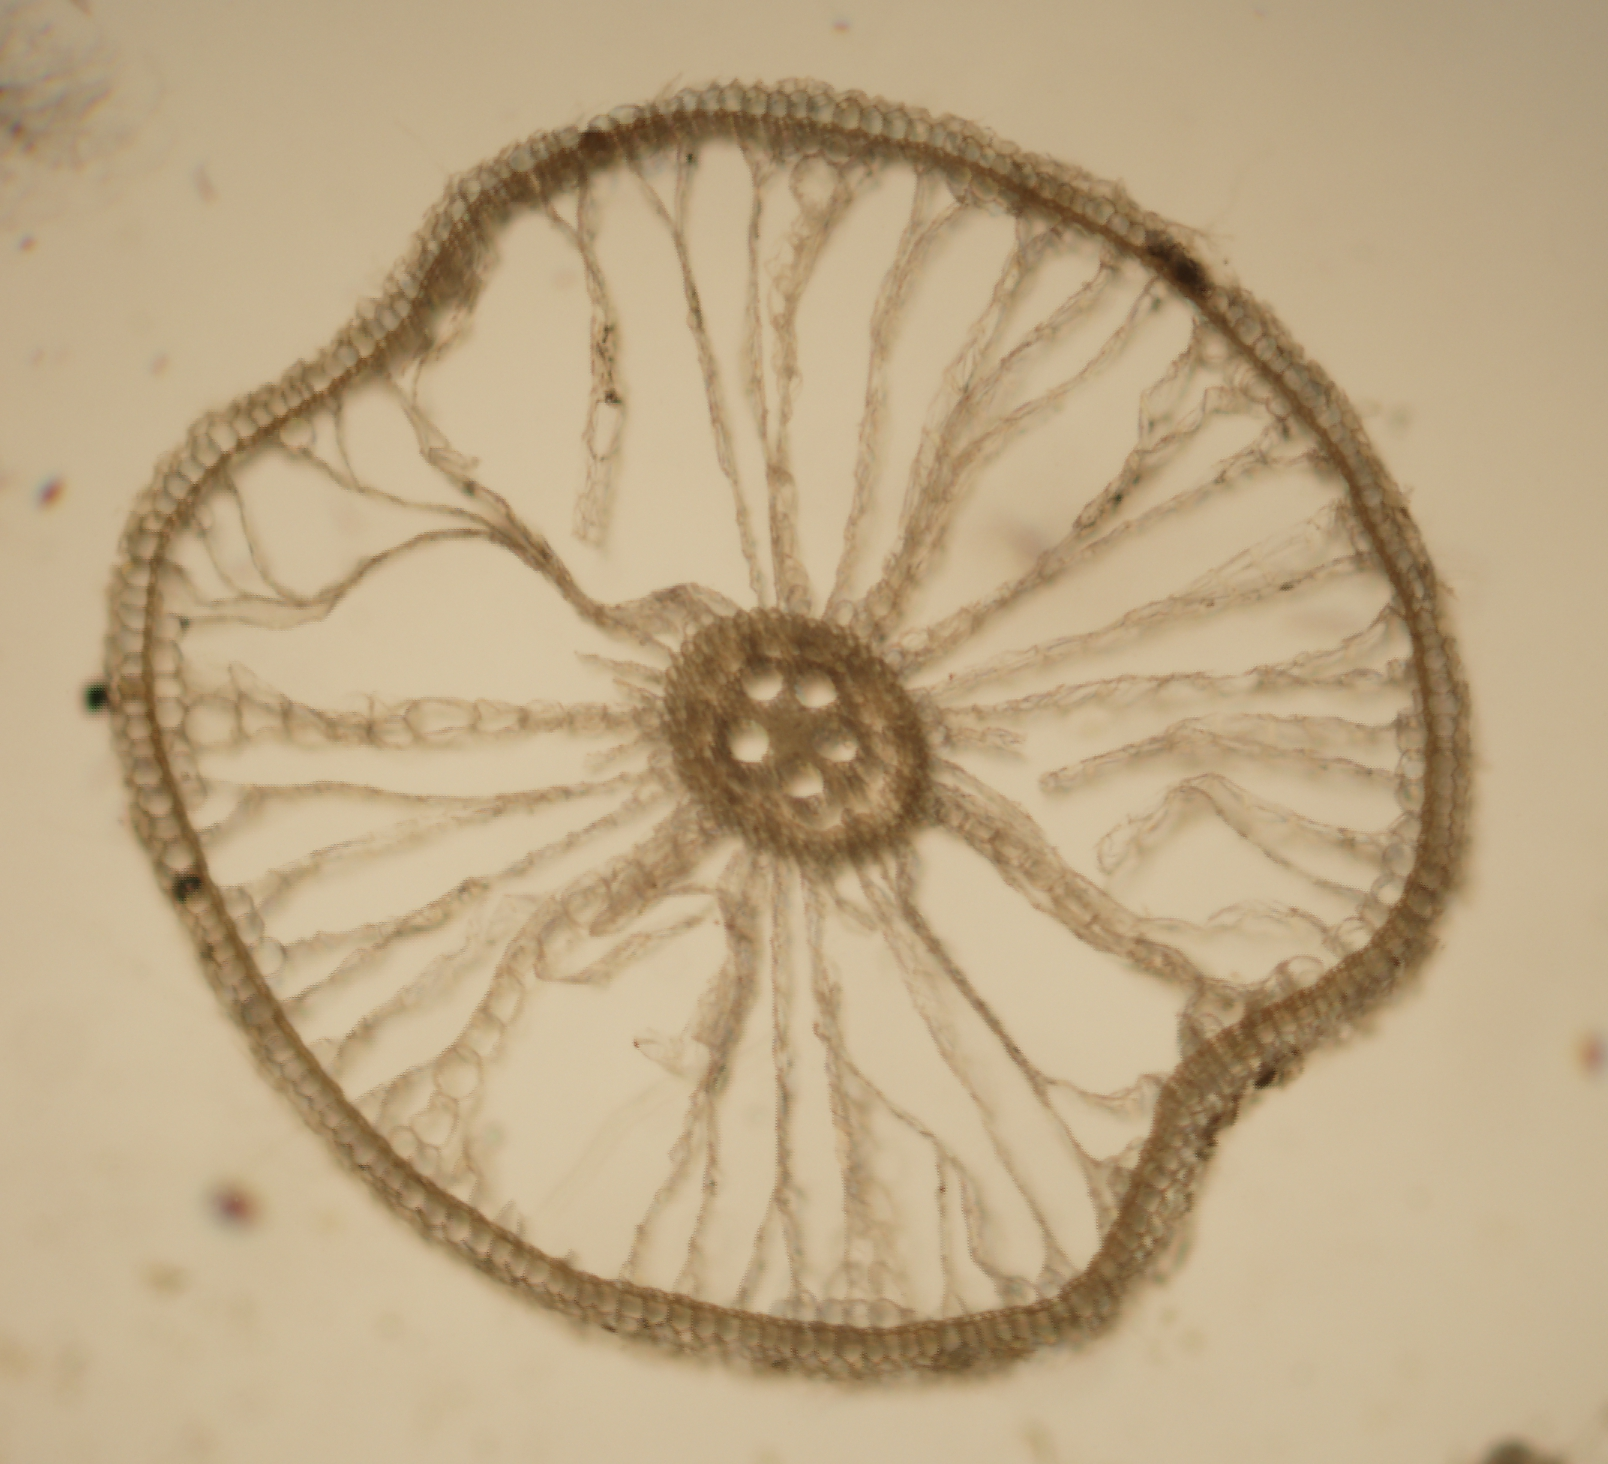lm: (726, 717, 770, 764), (811, 719, 859, 761), (779, 759, 824, 799), (794, 670, 838, 709), (740, 664, 784, 700)
